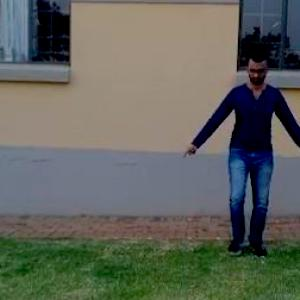land: (184, 45, 299, 271)
